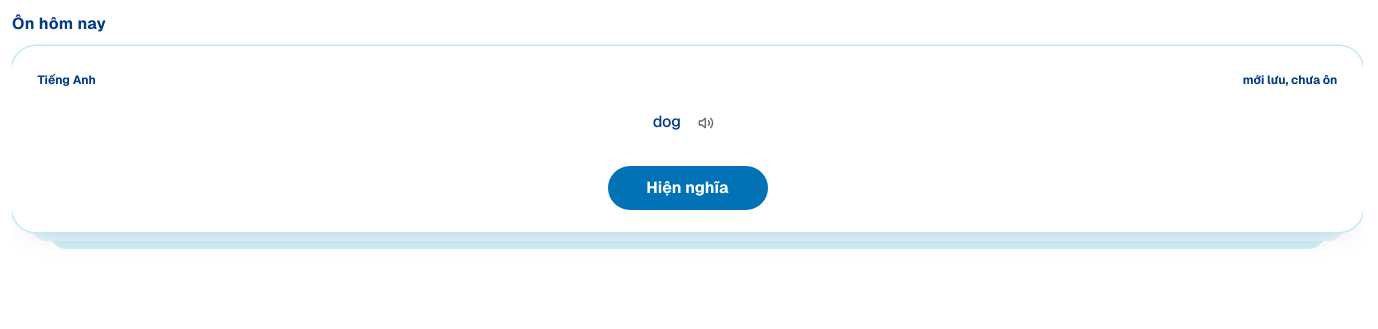
Test: HomeReviewDeck › grades Dễ as easy through the practice path and reports the new schedule
Click the button "Hiện nghĩa" at (688, 188), box [608,166,768,210]
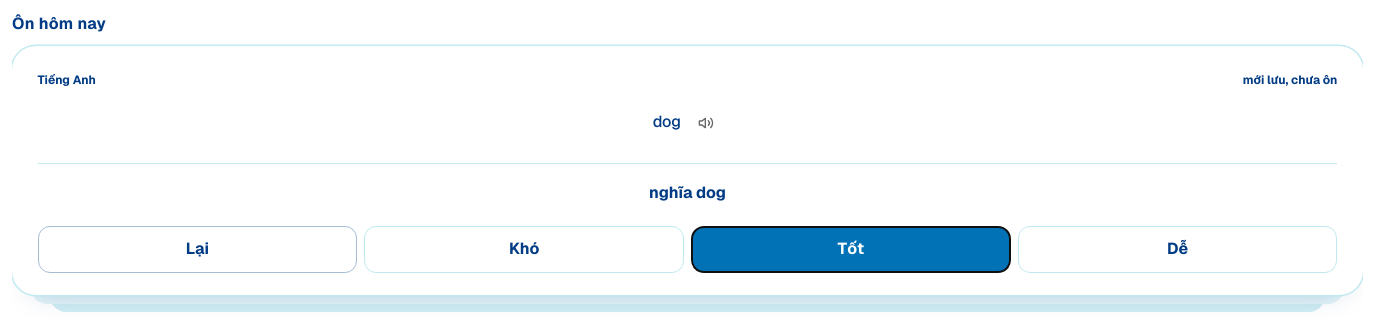
Click the button "Dễ" at (1178, 249), box [1018,226,1337,273]
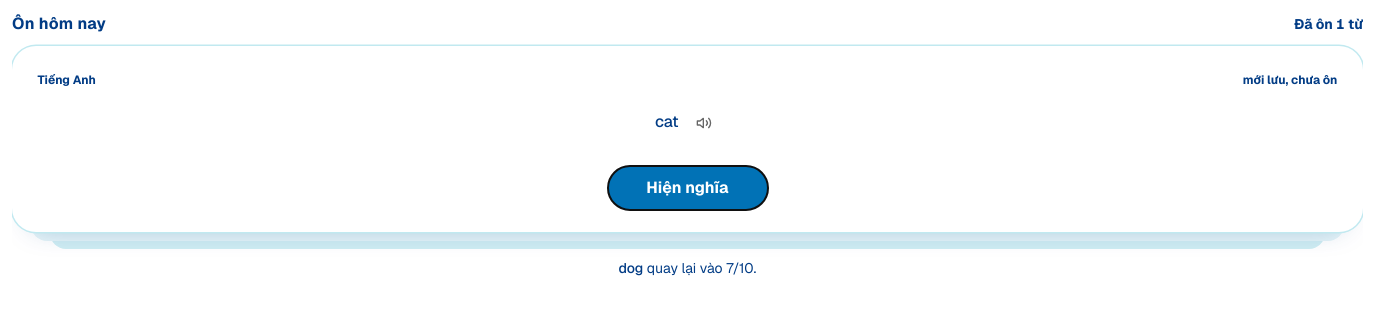
Expected: the text "cat" is shown, [655,114,678,131]
